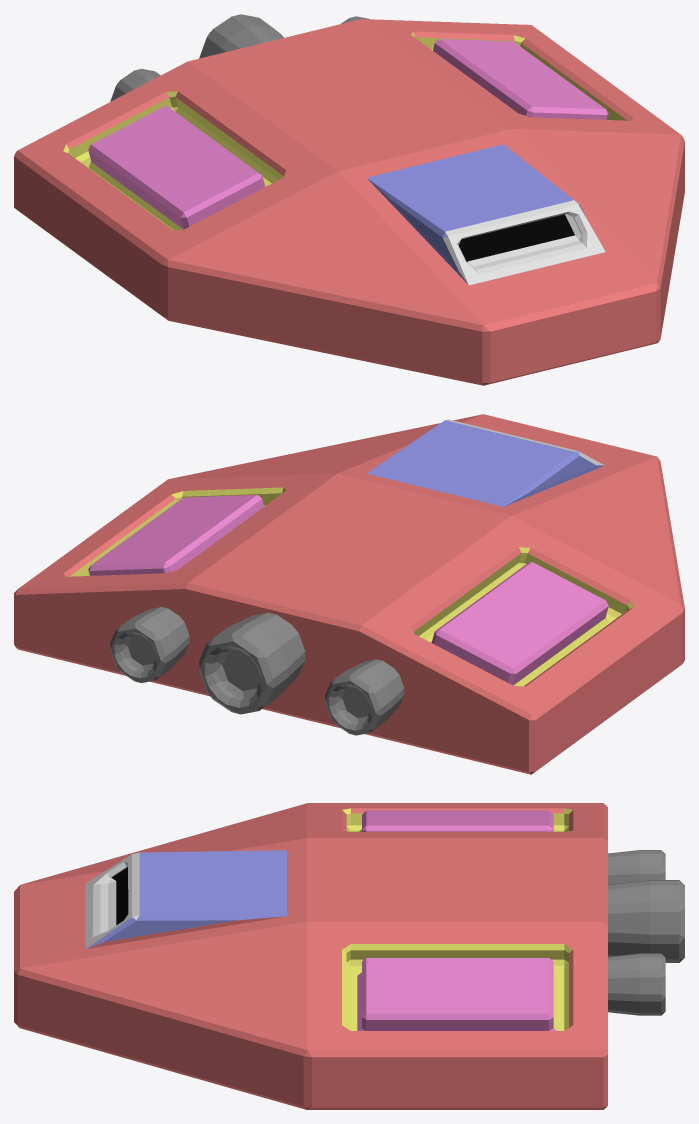
Rendered from spaceship6.fbx.
3 renders of one model, top to bottom at view 1: azimuth 30°, elevation 25°; view 2: azimuth 150°, elevation 25°; view 3: azimuth 270°, elevation 25°, orthographic.
Parts seen in each view (by area): view 1: Plane, Circle, Circle.001; view 2: Plane, Circle.001, Circle; view 3: Plane, Circle, Circle.001.
Boxes of the visible parts, <box> form: Plane: <box>14,19,684,385</box>; Circle: <box>199,14,283,58</box>; Circle.001: <box>110,16,369,101</box>; Plane: <box>14,414,684,774</box>; Circle.001: <box>110,607,404,735</box>; Circle: <box>199,612,305,714</box>; Plane: <box>14,803,607,1109</box>; Circle: <box>608,880,684,962</box>; Circle.001: <box>608,850,665,1015</box>.
Bounding box in the file's own units: 200 × 39.53 × 226.
